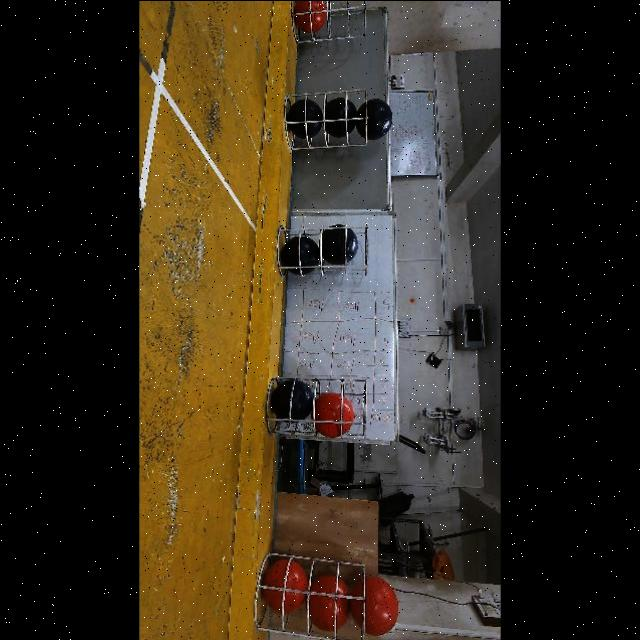P: (270, 378, 313, 423), (355, 97, 392, 140), (281, 235, 320, 274), (321, 223, 358, 264), (286, 97, 322, 139), (323, 96, 357, 137)
R: (348, 575, 399, 635), (262, 559, 308, 613), (308, 574, 350, 630), (312, 391, 355, 437), (293, 0, 327, 32)
S: (249, 558, 369, 638), (260, 378, 372, 436), (274, 216, 370, 280), (280, 88, 372, 152), (290, 0, 374, 48)
